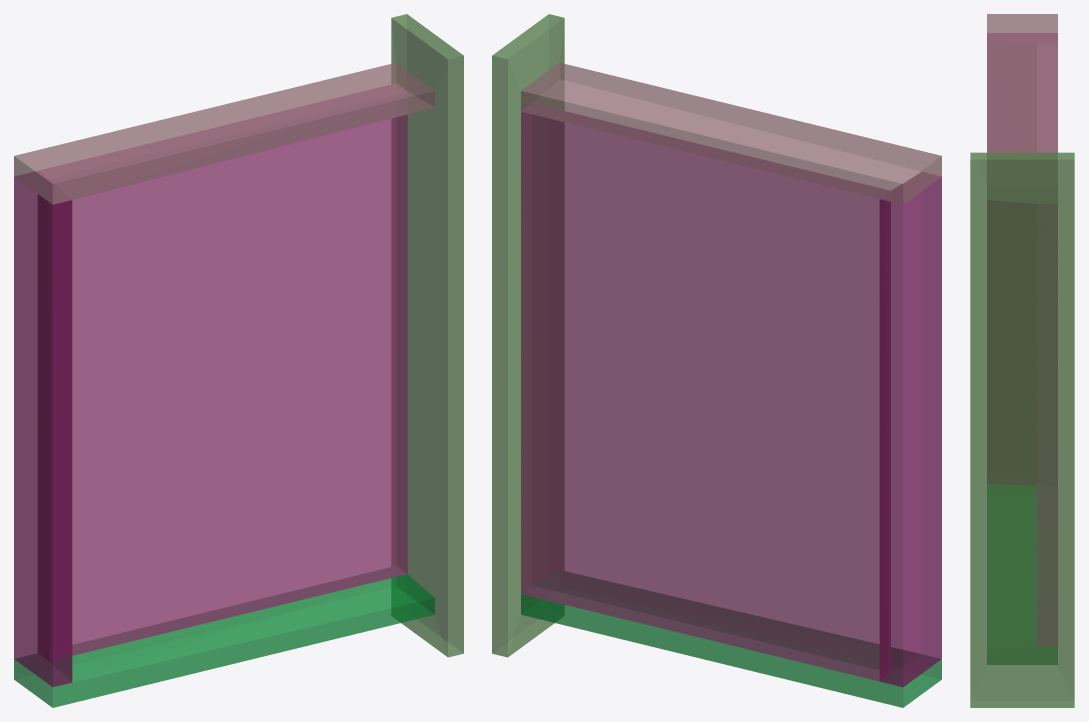
Rendered from SinkAreaSmallDrawer.obj.
The picture shows the model from 3 angles, left to right: view 1: azimuth 30°, elevation 25°; view 2: azimuth 150°, elevation 25°; view 3: azimuth 270°, elevation 25°; orthographic projection. The views are drawn at different scales.
Parts seen in each view (by area): view 1: Shape_IndexedFaceSet.004_Shape_IndexedFaceSet.075; view 2: Shape_IndexedFaceSet.004_Shape_IndexedFaceSet.075; view 3: Shape_IndexedFaceSet.004_Shape_IndexedFaceSet.075.
Boxes of the visible parts, x1,y1,x2,y2 form: Shape_IndexedFaceSet.004_Shape_IndexedFaceSet.075: [14, 14, 463, 707]; Shape_IndexedFaceSet.004_Shape_IndexedFaceSet.075: [492, 14, 941, 707]; Shape_IndexedFaceSet.004_Shape_IndexedFaceSet.075: [970, 14, 1074, 707].
Bounding box in the file's own units: 0.5631 × 0.8005 × 0.138.
